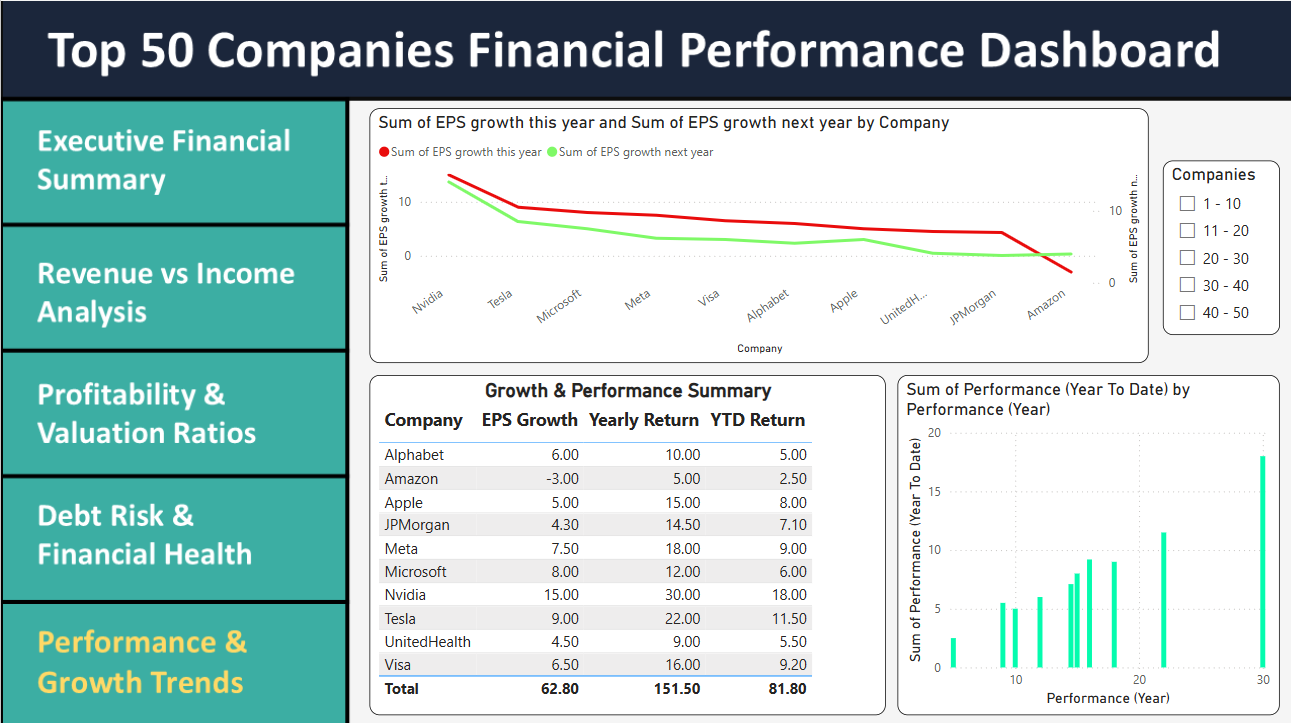

The page's visual inventory and layout, read from the dashboard file:
{"tool":"powerbi","page":{"name":"Performance & Growth Trends","canvas":[1280,720],"ordinal":4},"visuals":[{"type":"actionButton","box":[20.6,108.6,291.6,97.6],"z":0},{"type":"actionButton","box":[20.6,232.4,291.6,97.6],"z":1000},{"type":"actionButton","box":[20.6,360.3,291.6,97.6],"z":2000},{"type":"actionButton","box":[20.6,482.7,291.6,97.6],"z":3000},{"type":"actionButton","box":[20.6,607.9,291.6,97.6],"z":4000},{"type":"lineChart","fields":{"Y":["Sum(50_Company_Financial_Data.EPS growth this year)"],"Y2":["Sum(50_Company_Financial_Data.EPS growth next year)"],"Category":["50_Company_Financial_Data.Company"]},"box":[364.2,106,769.8,251.6],"z":5000},{"type":"slicer","title":"Companies","fields":{"Values":["50_Company_Financial_Data.CompanyGroup2"]},"box":[1147.3,157.3,115.9,172.2],"z":6000},{"type":"tableEx","title":"Growth & Performance Summary","fields":{"Values":["50_Company_Financial_Data.Company","Sum(50_Company_Financial_Data.EPS growth this year)","Sum(50_Company_Financial_Data.Performance (Year))","Sum(50_Company_Financial_Data.Performance (Year To Date))"]},"box":[364.2,369.2,509.9,336.1],"z":7000},{"type":"columnChart","fields":{"Category":["50_Company_Financial_Data.Performance (Year)"],"Y":["Sum(50_Company_Financial_Data.Performance (Year To Date))"]},"box":[885.7,369.2,377.5,336.1],"z":7001}]}

Visuals, with their boxes in screenshot pixels (x1, y1, x2, y2), scaled from the page's 1280x720 canvas onto the 1291x723 screenshot:
actionButton: rect(21, 109, 315, 207)
actionButton: rect(21, 233, 315, 331)
actionButton: rect(21, 362, 315, 460)
actionButton: rect(21, 485, 315, 583)
actionButton: rect(21, 610, 315, 708)
lineChart - Sum(50_Company_Financial_Data.EPS growth this year) x Sum(50_Company_Financial_Data.EPS growth next year): rect(367, 106, 1144, 359)
"Companies" slicer: rect(1157, 158, 1274, 331)
"Growth & Performance Summary" tableEx: rect(367, 371, 882, 708)
columnChart - 50_Company_Financial_Data.Performance (Year) x Sum(50_Company_Financial_Data.Performance (Year To Date)): rect(893, 371, 1274, 708)
